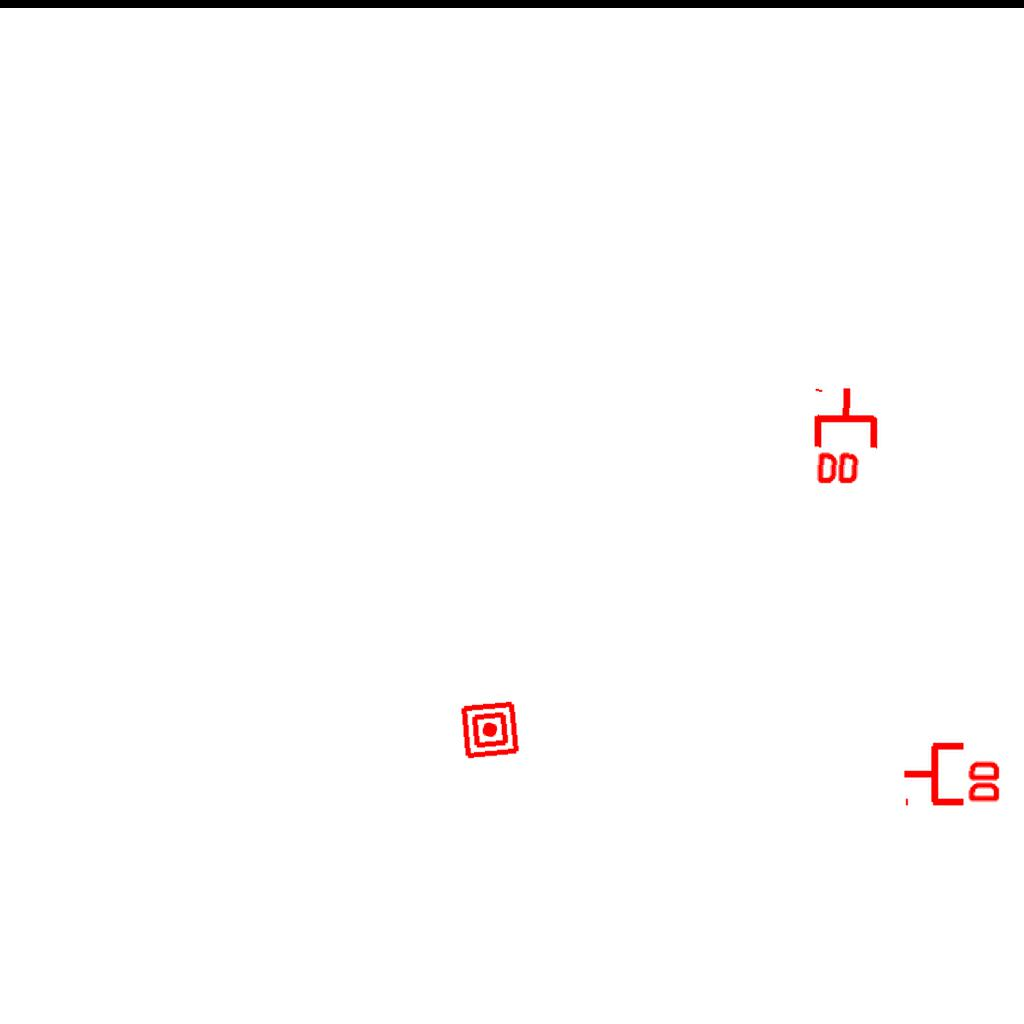Datenanschluss_zweifach: (812, 384, 883, 489), (901, 738, 1004, 807)
NAM-Nichtautomatischer_Melder: (459, 699, 521, 761)
